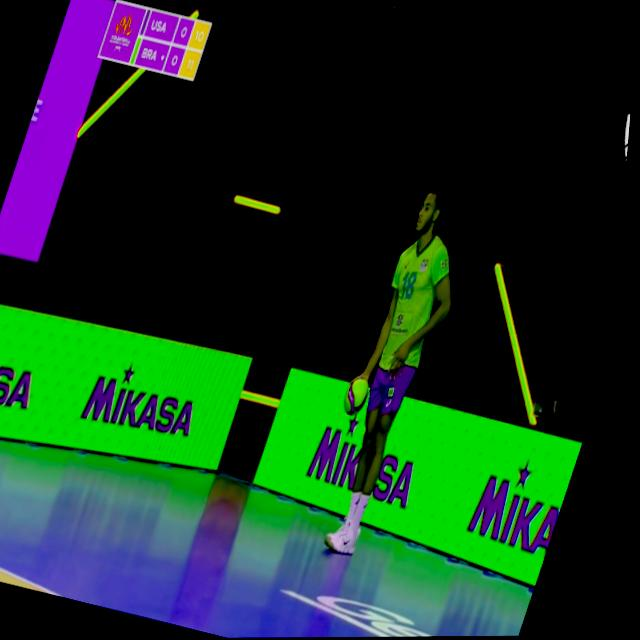player: (306, 184, 485, 562)
